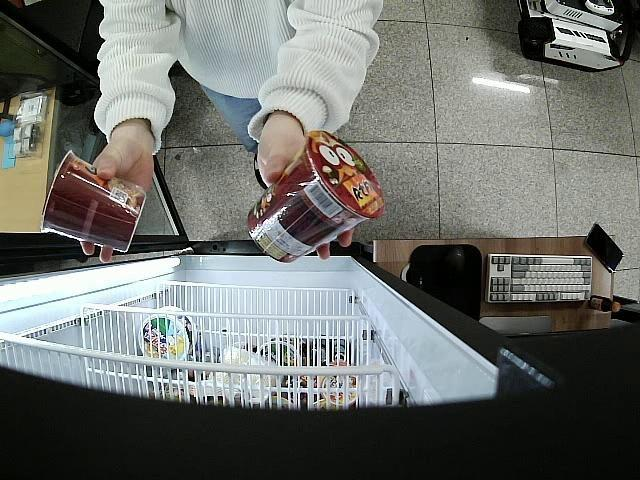06_nuguri_S: (248, 129, 384, 262), (41, 149, 148, 252)
